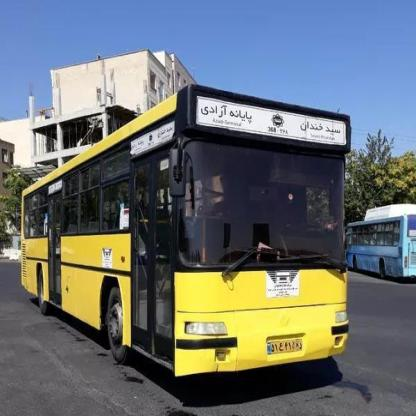Bus: (17, 98, 362, 397), (344, 187, 416, 286)
